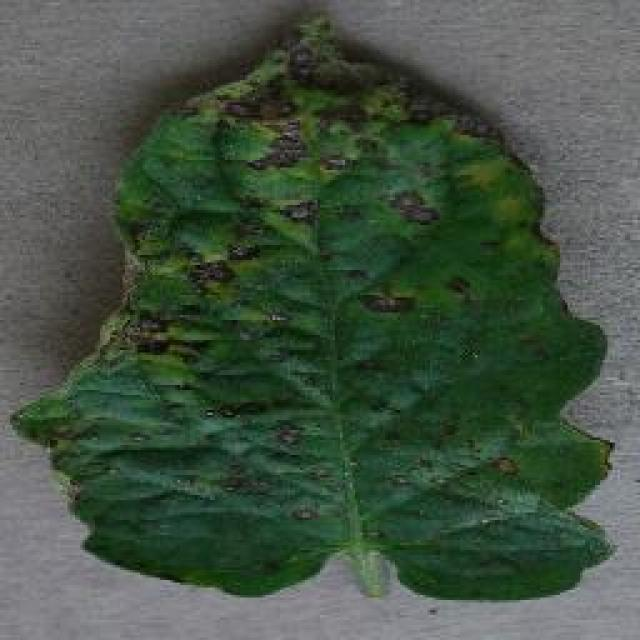Tomato Early blight leaf: (33, 20, 615, 592)
